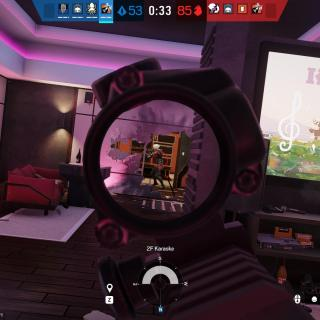Character: (146, 144, 168, 188)
Head: (152, 144, 161, 153)
